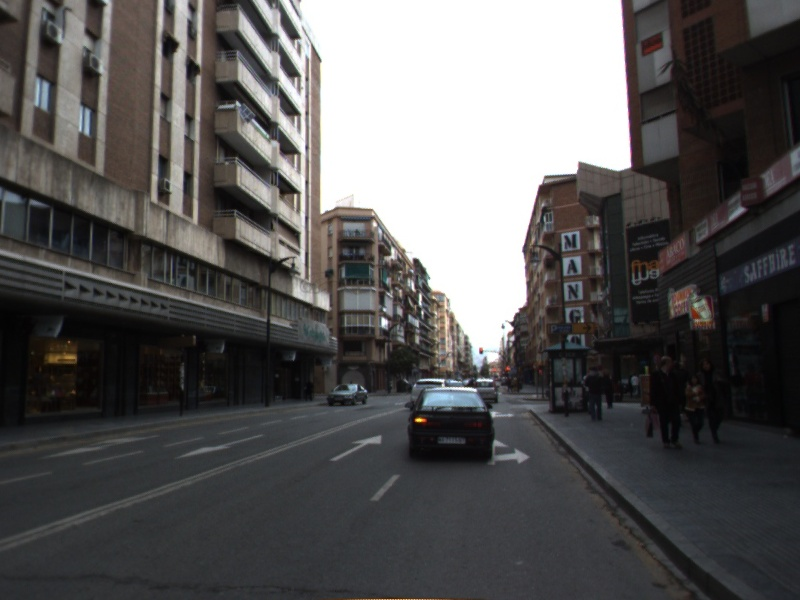STRAIGHT: (328, 433, 384, 463)
STRAIGHT_RIGHT: (485, 437, 532, 467), (489, 409, 516, 420)
